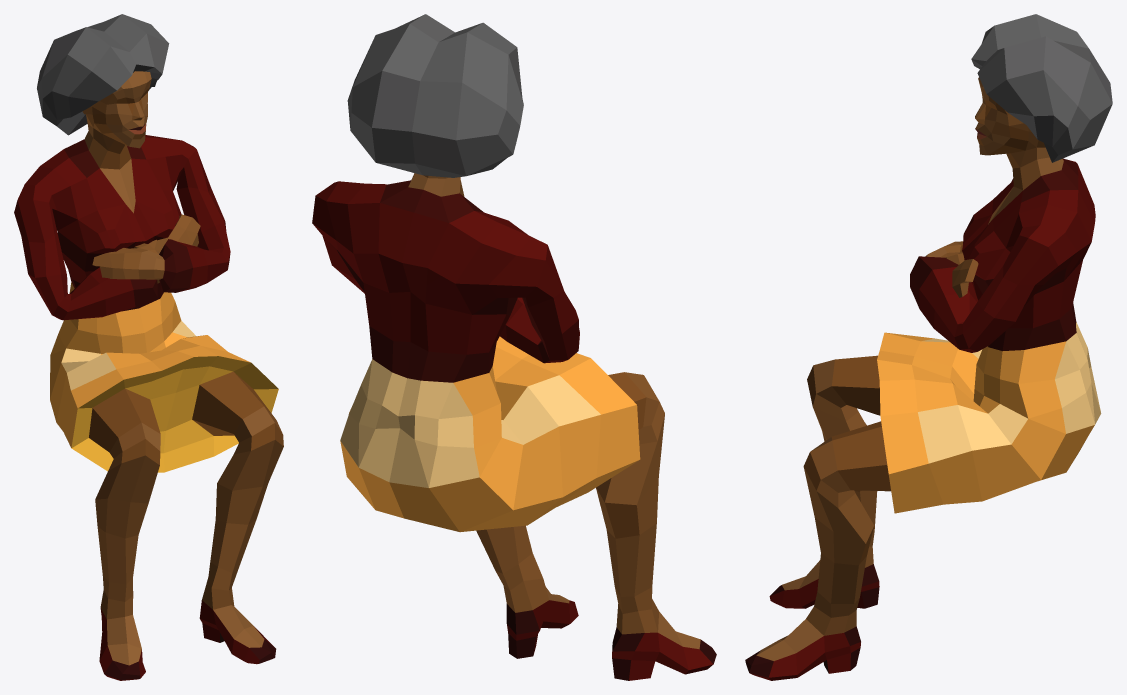
3 views of the same model, side by side, from view 1: azimuth 30°, elevation 25°; view 2: azimuth 150°, elevation 25°; view 3: azimuth 270°, elevation 25° (orthographic). The views are drawn at different scales.
Parts seen in each view (by area): view 1: lpFemale_casual_F_sitting_handscrossed_peopleColors_0; view 2: lpFemale_casual_F_sitting_handscrossed_peopleColors_0; view 3: lpFemale_casual_F_sitting_handscrossed_peopleColors_0.
Boxes of the visible parts, box(x1,y1,x2,y2) form: lpFemale_casual_F_sitting_handscrossed_peopleColors_0: box(14, 14, 283, 680); lpFemale_casual_F_sitting_handscrossed_peopleColors_0: box(312, 14, 716, 680); lpFemale_casual_F_sitting_handscrossed_peopleColors_0: box(745, 14, 1112, 680).
Bounding box in the file's own units: 55.98 × 139 × 73.48.
